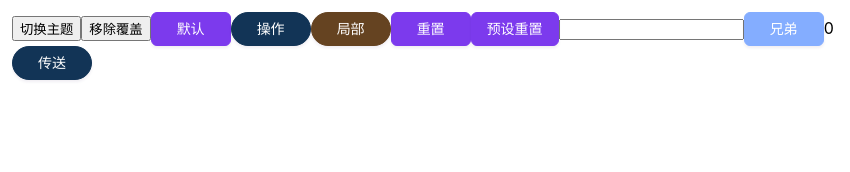
Test case: Provider 下鼠标和原生键盘激活复用相同点击路径
Step 1. Click the button with test id "parent" → (271, 29), box left=231, top=12, right=311, bottom=46
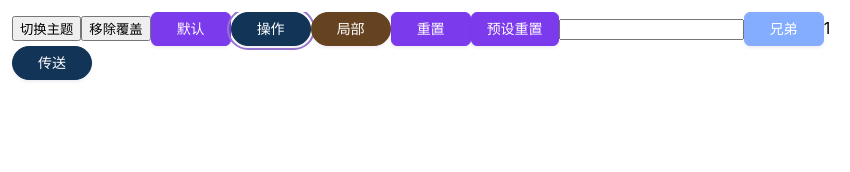
Expected: the text with test id "count" reads "1", left=824, top=18, right=830, bottom=38
Step 2. Press Enter
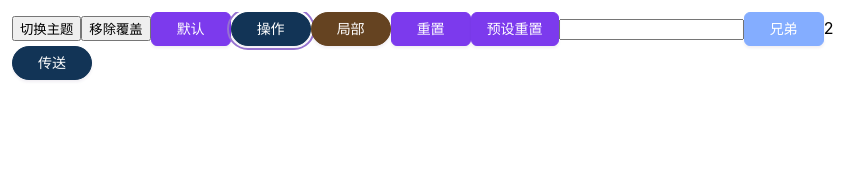
Expected: the text with test id "count" reads "2", left=824, top=18, right=833, bottom=38
Step 3. Type keys " "
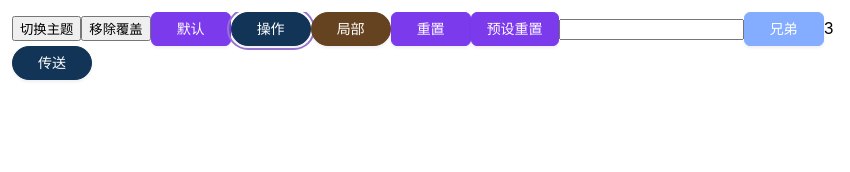
Expected: the text with test id "count" reads "3", left=824, top=18, right=834, bottom=38
